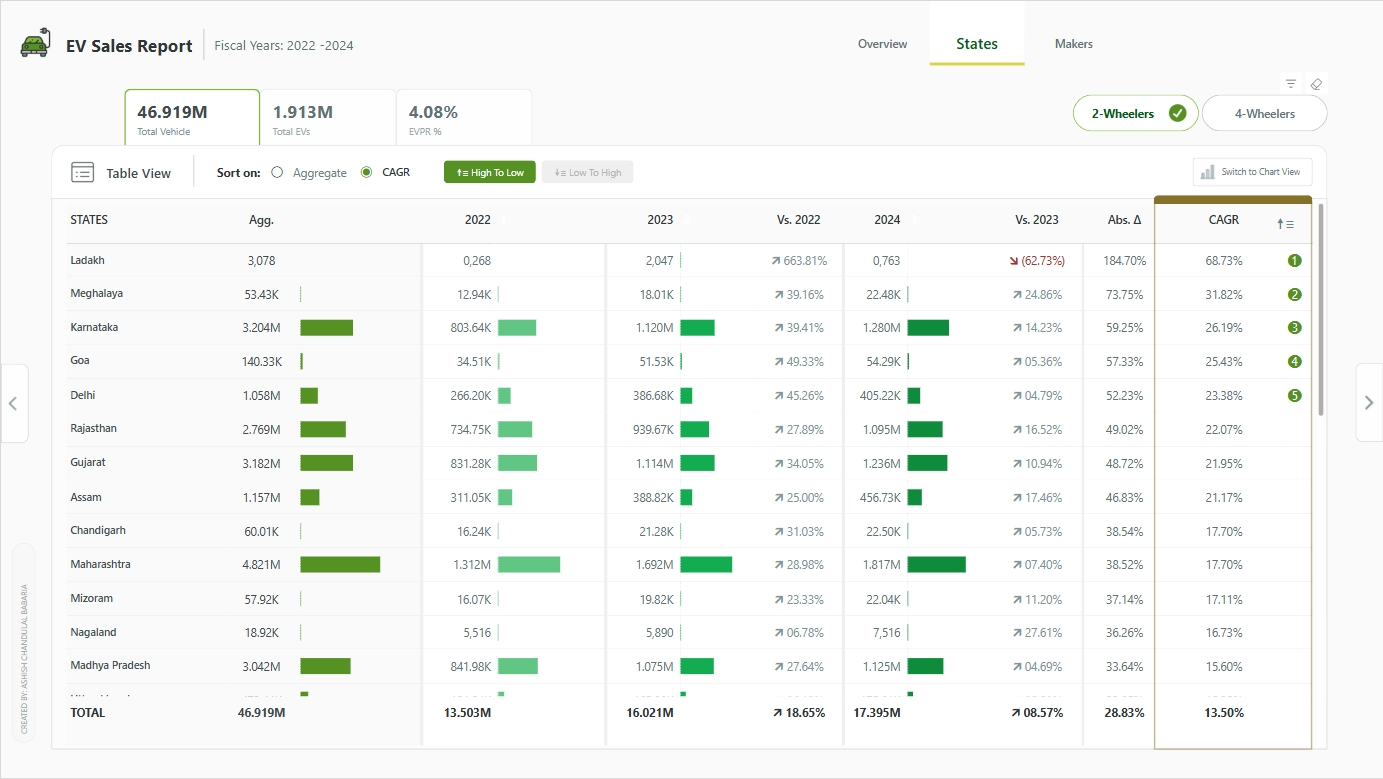

The page's visual inventory and layout, read from the dashboard file:
{"tool":"powerbi","page":{"name":"States-1","canvas":[1920,1080],"ordinal":1},"visuals":[{"type":"advancedSlicerVisual","fields":{"Values":["Total Sales/EV Sales/EVPR%.Total Sales/EV Sales/EVPR%"]},"box":[171,116,568,88],"z":0},{"type":"shape","box":[70,200,1772,840],"z":1000},{"type":"shape","box":[1290,75,131.7,25],"z":2000},{"type":"actionButton","box":[1158.8,33.8,131.2,48.8],"z":3000},{"type":"actionButton","box":[1882,502.5,38.8,110],"z":4000},{"type":"pivotTable","fields":{"Rows":["electric_vehicle_sales_by_state.state"],"Values":["KPIs.0201: Dynamic_Rank NEW","KPIs.Lbl Switch1","KPIs.Lbl Switch Bar","KPIs.Blank Column","KPIs.2022","KPIs.2022 Bar","KPIs.Blank Column","KPIs.2023","KPIs.2023 Bar","KPIs.Growth 23-22","KPIs.Blank Column","KPIs.2024"]},"box":[70,274.3,1772,765.7],"z":5000},{"type":"advancedSlicerVisual","fields":{"Values":["Rank Options.Options"]},"box":[372.5,219.8,241.4,35.7],"z":6000},{"type":"advancedSlicerVisual","fields":{"Values":["0201_SORT Order.SORT_Order"]},"box":[615.4,221.6,264,32],"z":7000},{"type":"shape","box":[300.2,212.6,71.4,50],"z":8000},{"type":"actionButton","box":[1290,36.3,131.4,48.6],"z":9000},{"type":"shape","box":[1290,0,131.7,45],"z":10000},{"type":"shape","box":[301.4,278.6,284,761.4],"z":11000},{"type":"shape","box":[1601.4,278.6,220,761.4],"z":12000},{"type":"shape","box":[301.7,270,284,12],"z":13000},{"type":"shape","box":[1601.4,270,220,12],"z":14000},{"type":"shape","box":[522,285,48,45],"z":15000},{"type":"shape","box":[1760,285,48.3,45],"z":16000},{"type":"shape","box":[70,274.3,1771.4,61.4],"z":17000},{"type":"advancedSlicerVisual","fields":{"Values":["Dim_Vehicle_type.Decription"]},"box":[1488.3,130,355,51.7],"z":18000},{"type":"actionButton","box":[0,503.3,38.3,110],"z":19000},{"type":"shape","box":[90,41.7,185,36.7],"z":20000},{"type":"image","box":[15,31.2,65,51.7],"z":21000},{"type":"shape","box":[145.7,217.6,115.7,40],"z":22000},{"type":"image","box":[90,209.8,45.7,55.7],"z":23000},{"type":"actionButton","box":[1655,217.6,166.7,40],"z":24000},{"type":"actionButton","box":[1425.6,33.3,130,48.9],"z":25000},{"type":"actionButton","box":[15,752,33,278],"z":26000},{"type":"shape","box":[261.4,214.3,12.9,44.3],"z":27000},{"type":"shape","box":[296.7,41.7,268.3,36.7],"z":28000},{"type":"shape","box":[275,38.3,13.3,43.3],"z":29000}]}

Visuals, with their boxes in screenshot pixels (x1, y1, x2, y2), scaled from the page's 1920x1080 canvas onto the 1383x779 screenshot:
advancedSlicerVisual - Total Sales/EV Sales/EVPR%.Total Sales/EV Sales/EVPR%: bbox=(123, 84, 532, 147)
shape: bbox=(50, 144, 1327, 750)
shape: bbox=(929, 54, 1024, 72)
actionButton: bbox=(835, 24, 929, 60)
actionButton: bbox=(1356, 362, 1382, 442)
pivotTable - electric_vehicle_sales_by_state.state x KPIs.0201: Dynamic_Rank NEW: bbox=(50, 198, 1327, 750)
advancedSlicerVisual - Rank Options.Options: bbox=(268, 159, 442, 184)
advancedSlicerVisual - 0201_SORT Order.SORT_Order: bbox=(443, 160, 633, 183)
shape: bbox=(216, 153, 268, 189)
actionButton: bbox=(929, 26, 1024, 61)
shape: bbox=(929, 0, 1024, 32)
shape: bbox=(217, 201, 422, 750)
shape: bbox=(1154, 201, 1312, 750)
shape: bbox=(217, 195, 422, 203)
shape: bbox=(1154, 195, 1312, 203)
shape: bbox=(376, 206, 411, 238)
shape: bbox=(1268, 206, 1303, 238)
shape: bbox=(50, 198, 1326, 242)
advancedSlicerVisual - Dim_Vehicle_type.Decription: bbox=(1072, 94, 1328, 131)
actionButton: bbox=(0, 363, 28, 442)
shape: bbox=(65, 30, 198, 57)
image: bbox=(11, 23, 58, 60)
shape: bbox=(105, 157, 188, 186)
image: bbox=(65, 151, 98, 192)
actionButton: bbox=(1192, 157, 1312, 186)
actionButton: bbox=(1027, 24, 1121, 59)
actionButton: bbox=(11, 542, 35, 743)
shape: bbox=(188, 155, 198, 187)
shape: bbox=(214, 30, 407, 57)
shape: bbox=(198, 28, 208, 59)
